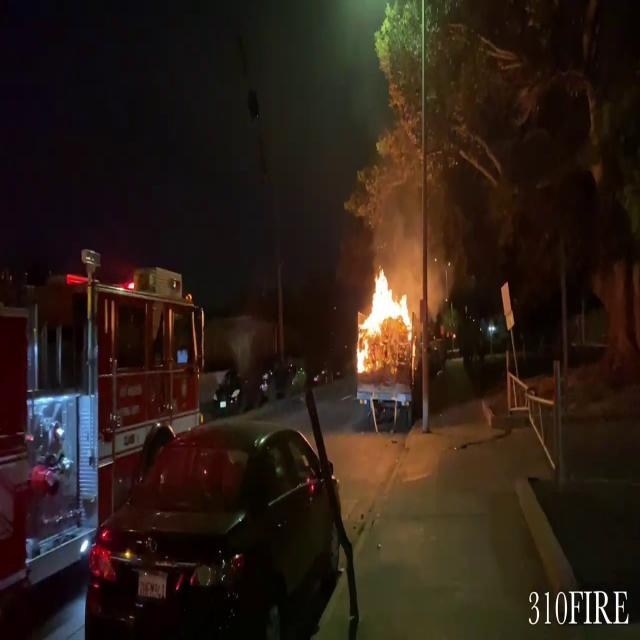Fire: (351, 264, 419, 382)
